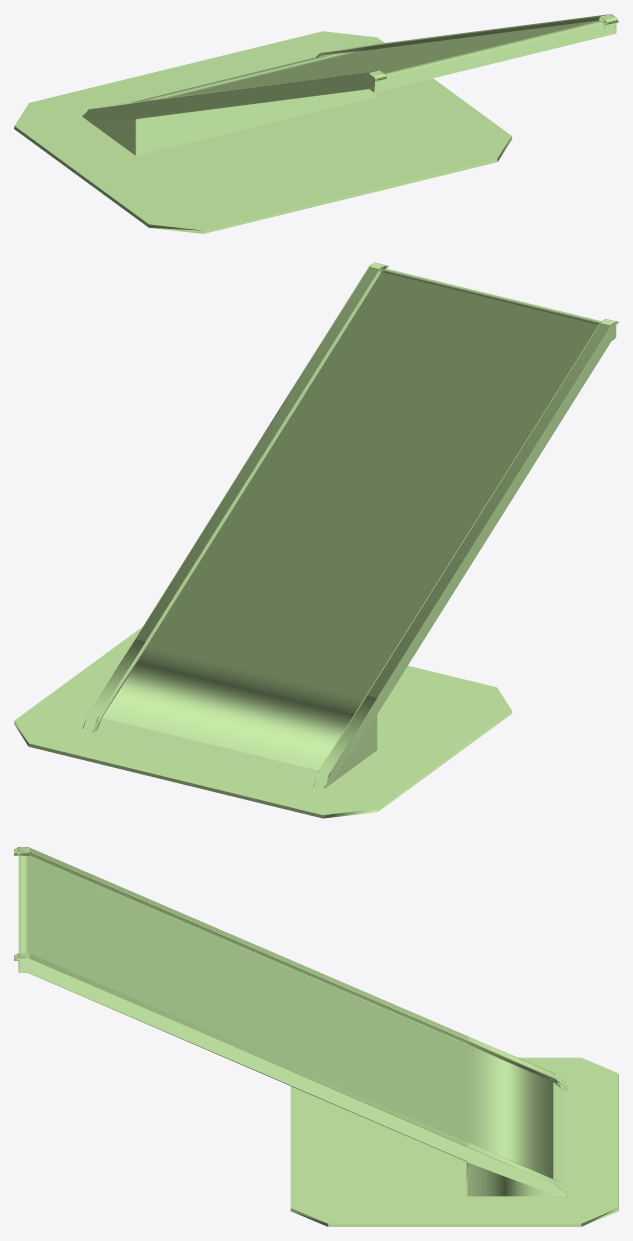
File: uee_asteroid_hangar_t3_platform_ramp_a.glb
The picture shows the model from 3 angles, top to bottom: view 1: azimuth 30°, elevation 25°; view 2: azimuth 150°, elevation 25°; view 3: azimuth 270°, elevation 25°; orthographic projection. The views are drawn at different scales.
Bounding box in the file's own units: 12 × 8.13 × 18.42.
